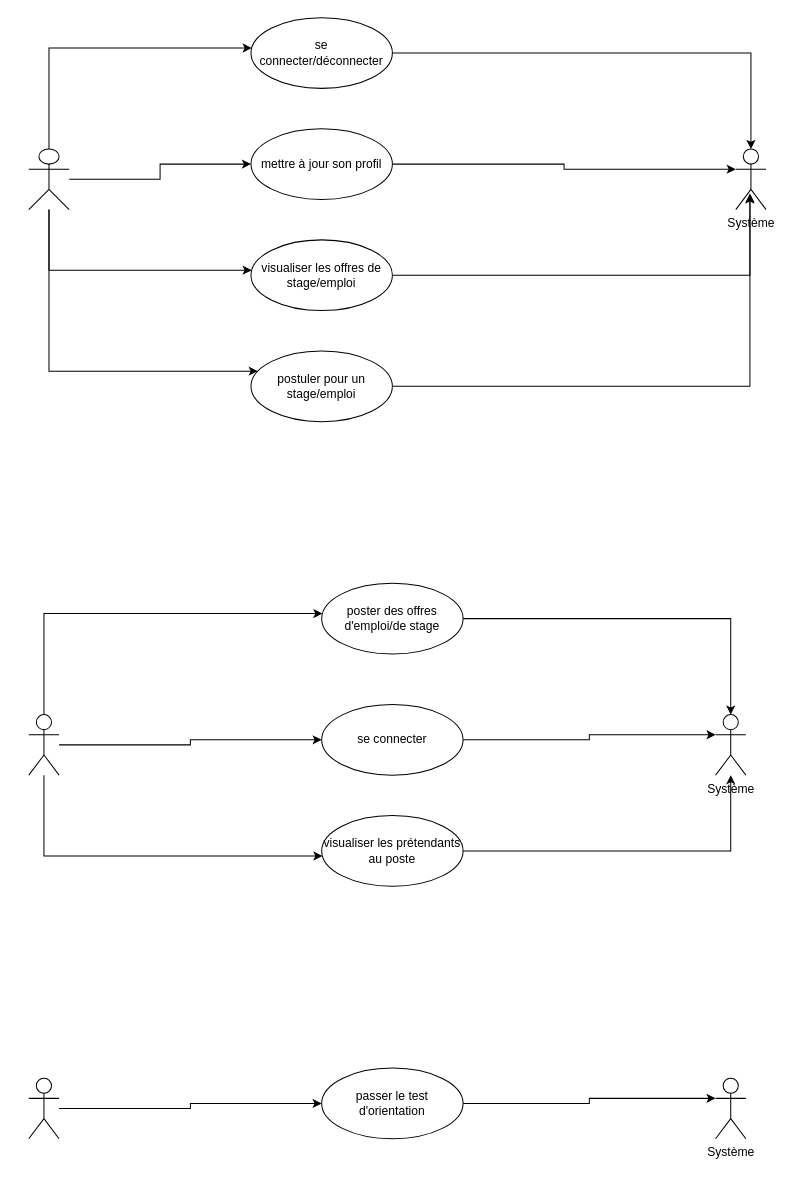
The diagram is 792 pixels wide and 1178 high, and some of its shapes have lost their labels. Here are the shapes that lost their labels. From the top down, the box of each, then its label:
(28, 148, 69, 210): Utilisateur
(28, 714, 59, 775): Recruteur
(28, 1077, 59, 1139): Invité
